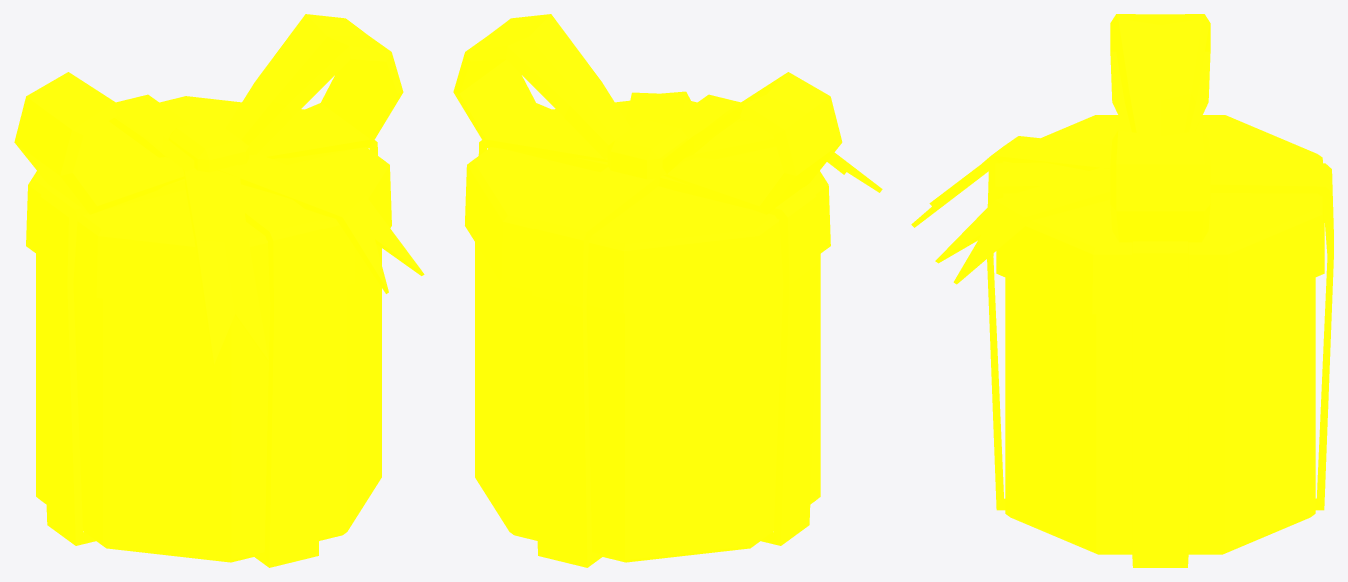
Rendered from gift-christmas-cylinder-a.glb.
3 views of the same model, side by side, from view 1: azimuth 30°, elevation 25°; view 2: azimuth 150°, elevation 25°; view 3: azimuth 270°, elevation 25° (orthographic). The views are drawn at different scales.
Parts seen in each view (by area): view 1: gift_christmas_cylinder_a; view 2: gift_christmas_cylinder_a; view 3: gift_christmas_cylinder_a.
Boxes of the visible parts, left/top/right/bottom form: gift_christmas_cylinder_a: left=14, top=14, right=424, bottom=567; gift_christmas_cylinder_a: left=453, top=14, right=882, bottom=567; gift_christmas_cylinder_a: left=911, top=14, right=1333, bottom=567.
Bounding box in the file's own units: 0.3038 × 0.3733 × 0.3367.
1 material, 1 textured.
